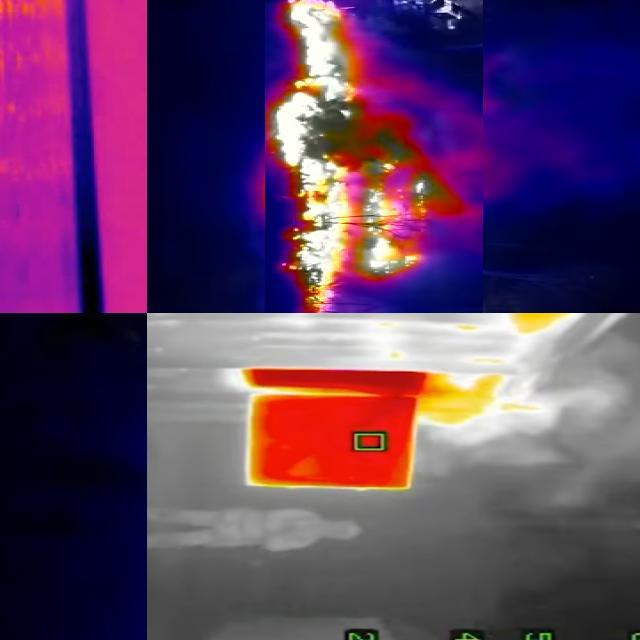fire: (264, 1, 482, 314), (417, 372, 503, 428)
